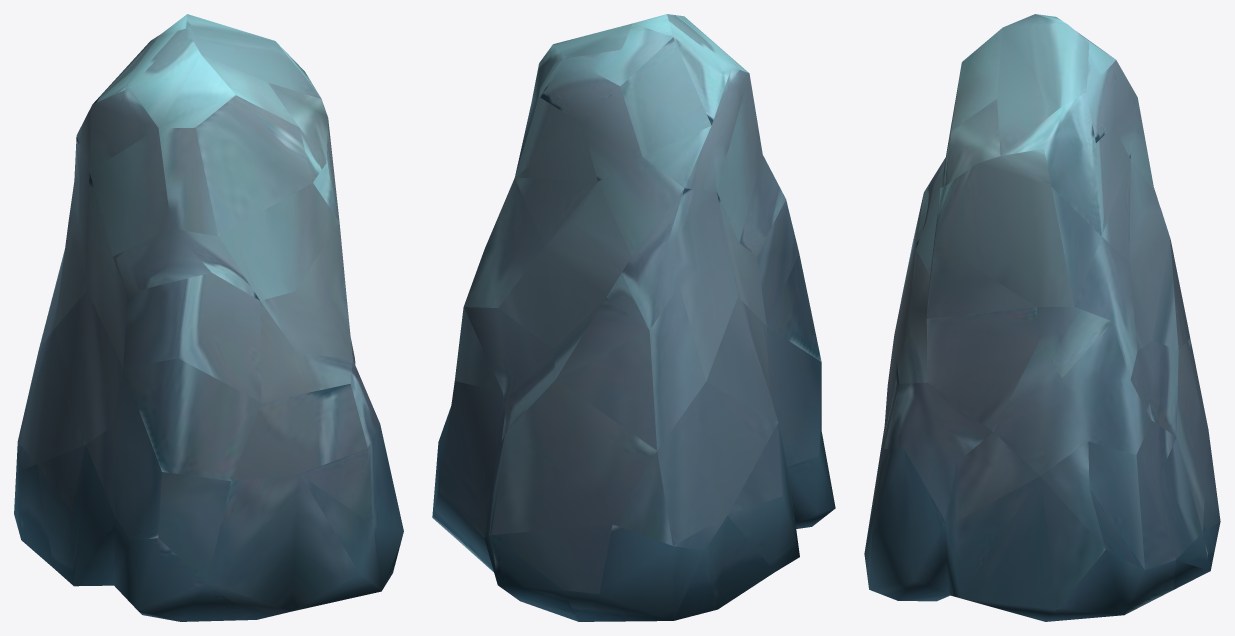
The model's file is s-pierre-eau-semis.glb.
3 renders of one model, left to right at view 1: azimuth 30°, elevation 25°; view 2: azimuth 150°, elevation 25°; view 3: azimuth 270°, elevation 25°, orthographic.
Visible parts, largest first — view 1: s-pierre-eau-semis; view 2: s-pierre-eau-semis; view 3: s-pierre-eau-semis.
Part boxes in pixels (left/top/right/bottom): s-pierre-eau-semis: left=14, top=14, right=403, bottom=621; s-pierre-eau-semis: left=432, top=14, right=835, bottom=621; s-pierre-eau-semis: left=864, top=14, right=1220, bottom=621.
Size of the model in its own units: 1.19 by 1.98 by 1.17.
Materials: 1 (1 with a texture image).
